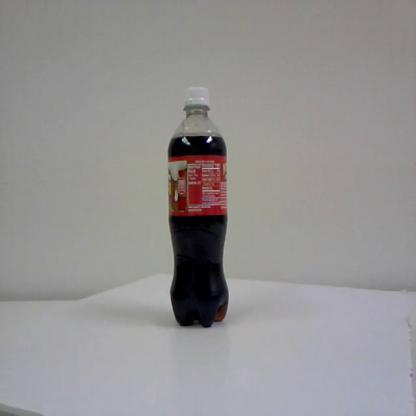bottle: (166, 84, 229, 329)
